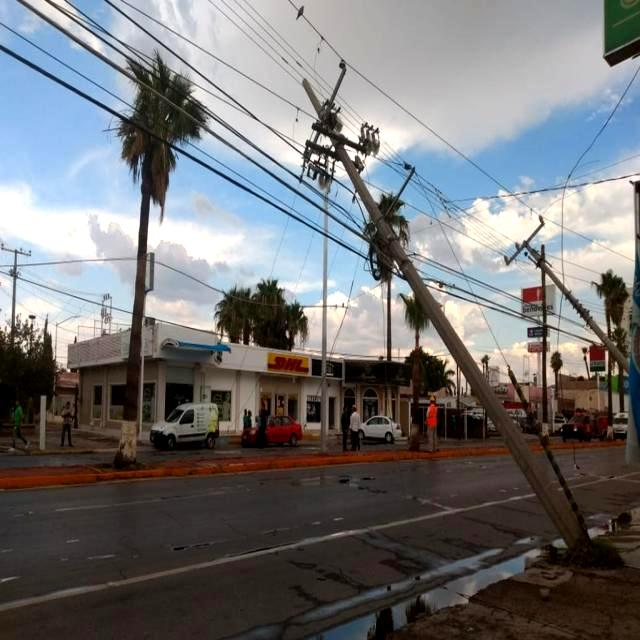Broken Pole: (297, 58, 583, 548), (502, 214, 630, 376)
